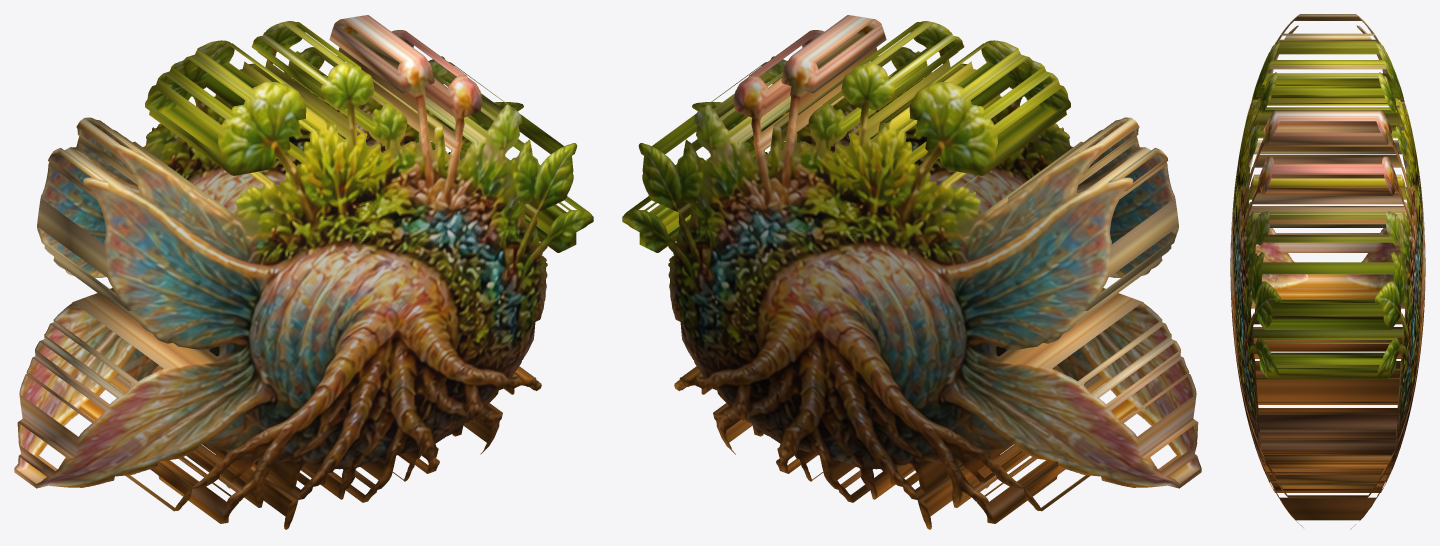
3 renders of one model, left to right at view 1: azimuth 30°, elevation 25°; view 2: azimuth 150°, elevation 25°; view 3: azimuth 270°, elevation 25°, orthographic. The views are drawn at different scales.
Parts seen in each view (by area): view 1: organisms:8; view 2: organisms:8; view 3: organisms:8.
Part boxes in pixels (x1,y1,x2,y2): organisms:8: (14, 15, 593, 529); organisms:8: (622, 15, 1201, 529); organisms:8: (1230, 14, 1425, 529).
Bounding box in the file's own units: 1.18 × 0.9487 × 0.4199.
1 material, 1 textured.
